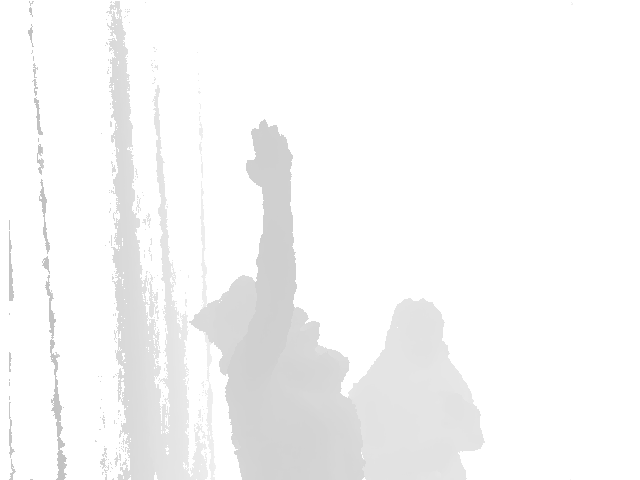hand: (245, 119, 296, 192)
head: (190, 274, 289, 358), (387, 300, 445, 353)
person: (192, 118, 368, 480), (350, 282, 484, 480)
